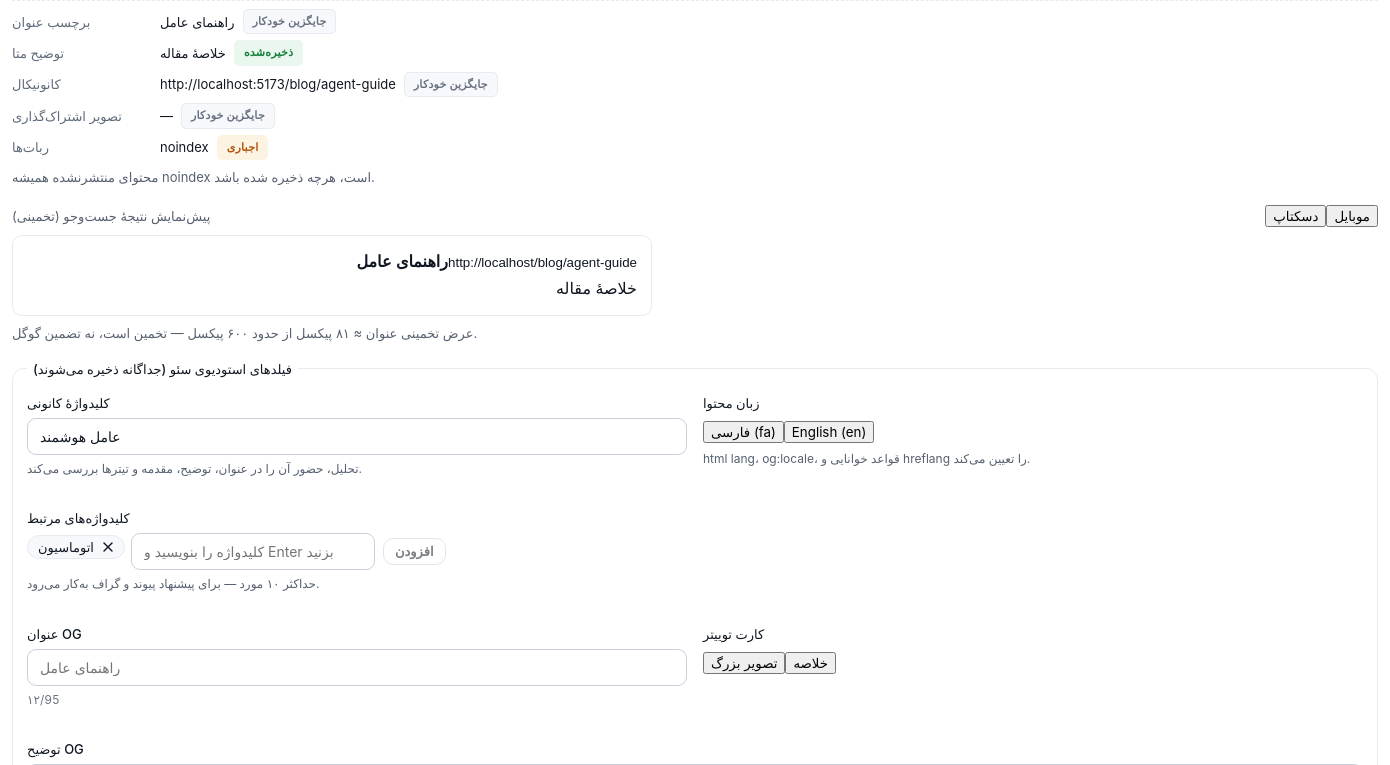
SeoStudioPanel › distinguishes stored, fallback and forced values and toggles the SERP device
The image size is (1390, 765).
Expected: the text "محتوای منتشرنشده همیشه noindex است، هرچه ذخیره شده باشد." is shown, [12,169,375,185]
Click the radio button "موبایل" at (1352,216), box [1326,205,1378,227]
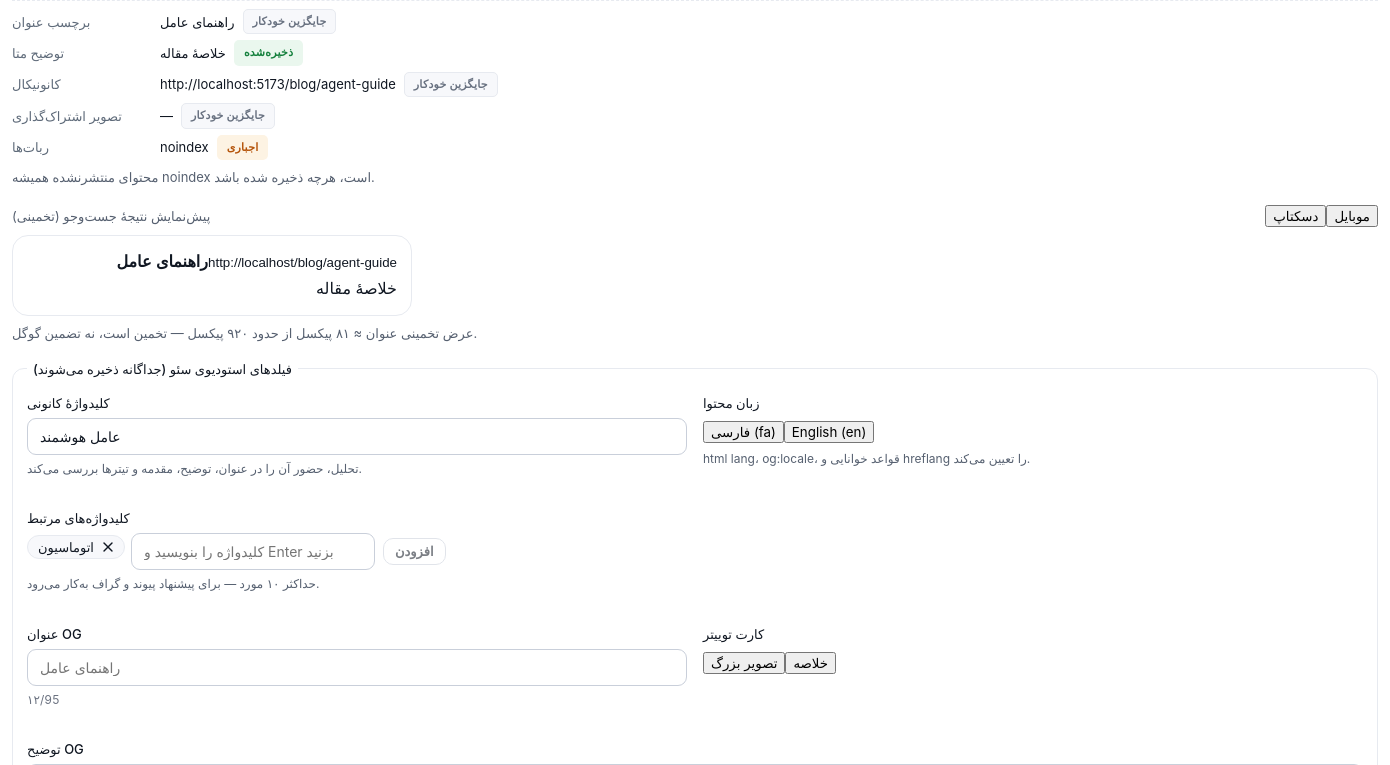
Result: the element with test id "seo-serp" has attribute data-device="mobile" at [12,235,412,316]
